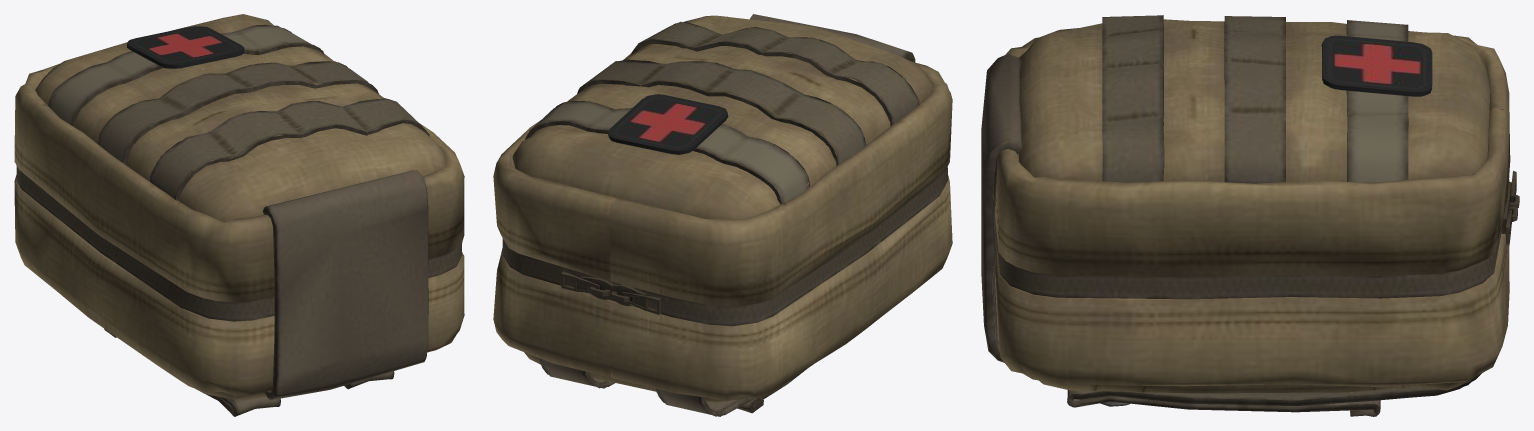
File: medkit.glb
The picture shows the model from 3 angles, left to right: view 1: azimuth 30°, elevation 25°; view 2: azimuth 150°, elevation 25°; view 3: azimuth 270°, elevation 25°; orthographic projection. The views are drawn at different scales.
Visible parts, largest first — view 1: Medkit; view 2: Medkit; view 3: Medkit.
Boxes of the visible parts, x1,y1,x2,y2 form: Medkit: [14, 14, 464, 416]; Medkit: [493, 14, 952, 416]; Medkit: [981, 15, 1519, 416].
Bounding box in the file's own units: 0.1439 × 0.1304 × 0.1998.
1 material, 1 textured.
